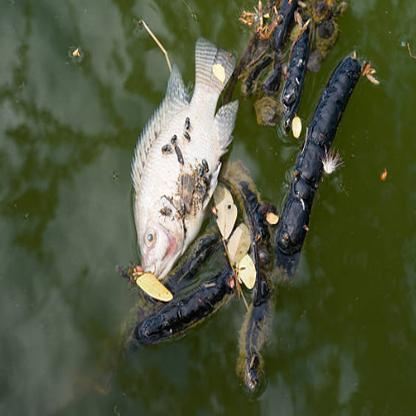deceased fish: (133, 39, 233, 285)
